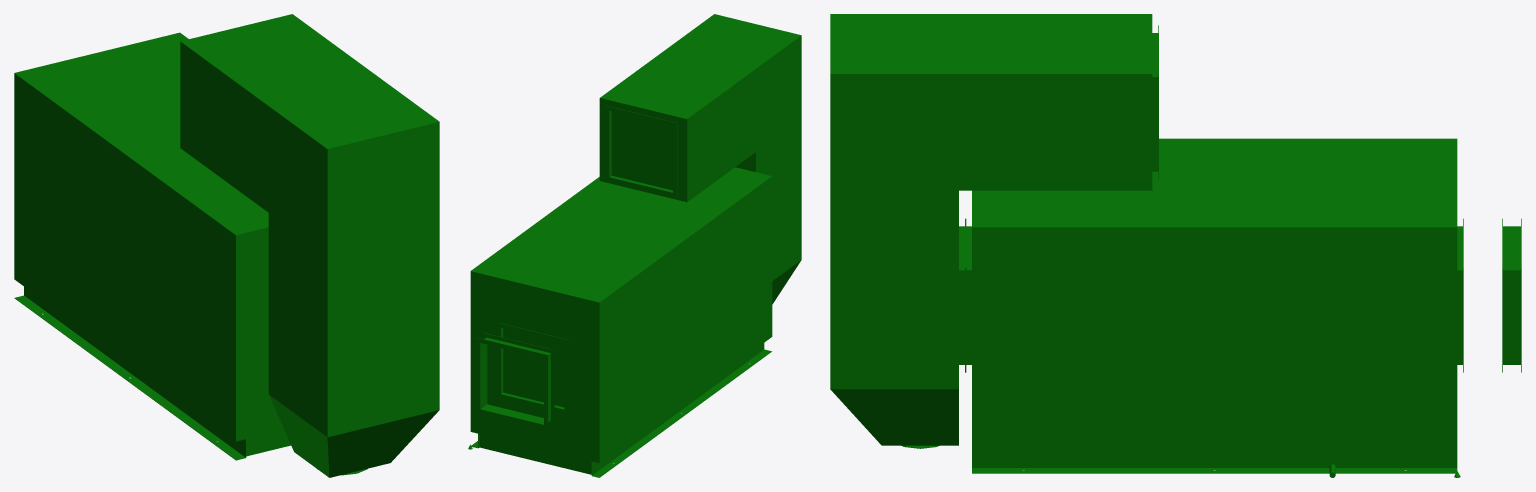
The model's file is Image-1710907701275-2280781674368_77-GA53.fbx.
3 views of the same model, side by side, from view 1: azimuth 30°, elevation 25°; view 2: azimuth 150°, elevation 25°; view 3: azimuth 270°, elevation 25° (orthographic). The views are drawn at different scales.
Visible parts, largest first — view 1: BOX 1 of SUBEQUIPMENT /77-GA53/UNIT, BOX 3 of SUBEQUIPMENT /77-GA53/SOUND-TRAP, BOX 4 of SUBEQUIPMENT /77-GA53/SOUND-TRAP, PYRAMID 1 of SUBEQUIPMENT /77-GA53/SOUND-TRAP, BOX 3 of SUBEQUIPMENT /77-GA53/FUND, BOX 4 of SUBEQUIPMENT /77-GA53/FUND; view 2: BOX 1 of SUBEQUIPMENT /77-GA53/UNIT, BOX 4 of SUBEQUIPMENT /77-GA53/SOUND-TRAP, BOX 3 of SUBEQUIPMENT /77-GA53/SOUND-TRAP, BOX 3 of SUBEQUIPMENT /77-GA53/FUND, BOX 2 of SUBEQUIPMENT /77-GA53/FUND, BOX 6 of SUBEQUIPMENT /77-GA53/SOUND-TRAP, BOX 5 of SUBEQUIPMENT /77-GA53/UNIT, BOX 4 of SUBEQUIPMENT /77-GA53/UNIT, BOX 7 of SUBEQUIPMENT /77-GA53/UNIT, BOX 6 of SUBEQUIPMENT /77-GA53/UNIT, PYRAMID 1 of SUBEQUIPMENT /77-GA53/SOUND-TRAP, BOX 5 of SUBEQUIPMENT /77-GA53/SOUND-TRAP; view 3: BOX 1 of SUBEQUIPMENT /77-GA53/UNIT, BOX 3 of SUBEQUIPMENT /77-GA53/SOUND-TRAP, BOX 4 of SUBEQUIPMENT /77-GA53/SOUND-TRAP, BOX 1 of SUBEQUIPMENT /77-GA53/FUND, PYRAMID 1 of SUBEQUIPMENT /77-GA53/SOUND-TRAP, BOX 7 of SUBEQUIPMENT /77-GA53/UNIT, BOX 5 of SUBEQUIPMENT /77-GA53/SOUND-TRAP, BOX 8 of SUBEQUIPMENT /77-GA53/UNIT, BOX 9 of SUBEQUIPMENT /77-GA53/UNIT, BOX 1 of SUBEQUIPMENT /77-GA53/SOUND-TRAP.
Part boxes in pixels (x1=…): BOX 1 of SUBEQUIPMENT /77-GA53/UNIT: x1=14, y1=32, x2=283, y2=441; BOX 3 of SUBEQUIPMENT /77-GA53/SOUND-TRAP: x1=268, y1=78, x2=439, y2=437; BOX 4 of SUBEQUIPMENT /77-GA53/SOUND-TRAP: x1=180, y1=14, x2=380, y2=212; PYRAMID 1 of SUBEQUIPMENT /77-GA53/SOUND-TRAP: x1=269, y1=395, x2=439, y2=477; BOX 3 of SUBEQUIPMENT /77-GA53/FUND: x1=14, y1=279, x2=246, y2=460; BOX 4 of SUBEQUIPMENT /77-GA53/FUND: x1=246, y1=429, x2=290, y2=456; BOX 1 of SUBEQUIPMENT /77-GA53/UNIT: x1=470, y1=167, x2=772, y2=462; BOX 4 of SUBEQUIPMENT /77-GA53/SOUND-TRAP: x1=599, y1=47, x2=755, y2=202; BOX 3 of SUBEQUIPMENT /77-GA53/SOUND-TRAP: x1=669, y1=14, x2=801, y2=280; BOX 3 of SUBEQUIPMENT /77-GA53/FUND: x1=591, y1=338, x2=771, y2=477; BOX 2 of SUBEQUIPMENT /77-GA53/FUND: x1=479, y1=434, x2=591, y2=474; BOX 6 of SUBEQUIPMENT /77-GA53/SOUND-TRAP: x1=605, y1=105, x2=677, y2=197; BOX 5 of SUBEQUIPMENT /77-GA53/UNIT: x1=476, y1=337, x2=547, y2=429; BOX 4 of SUBEQUIPMENT /77-GA53/UNIT: x1=497, y1=322, x2=568, y2=414; BOX 7 of SUBEQUIPMENT /77-GA53/UNIT: x1=480, y1=337, x2=550, y2=424; BOX 6 of SUBEQUIPMENT /77-GA53/UNIT: x1=483, y1=332, x2=554, y2=424; PYRAMID 1 of SUBEQUIPMENT /77-GA53/SOUND-TRAP: x1=772, y1=260, x2=801, y2=304; BOX 5 of SUBEQUIPMENT /77-GA53/SOUND-TRAP: x1=609, y1=111, x2=672, y2=192; BOX 1 of SUBEQUIPMENT /77-GA53/UNIT: x1=972, y1=138, x2=1457, y2=452; BOX 3 of SUBEQUIPMENT /77-GA53/SOUND-TRAP: x1=830, y1=14, x2=958, y2=389; BOX 4 of SUBEQUIPMENT /77-GA53/SOUND-TRAP: x1=959, y1=14, x2=1152, y2=190; BOX 1 of SUBEQUIPMENT /77-GA53/FUND: x1=972, y1=452, x2=1457, y2=473; PYRAMID 1 of SUBEQUIPMENT /77-GA53/SOUND-TRAP: x1=830, y1=389, x2=958, y2=445; BOX 7 of SUBEQUIPMENT /77-GA53/UNIT: x1=1503, y1=226, x2=1520, y2=364; BOX 5 of SUBEQUIPMENT /77-GA53/SOUND-TRAP: x1=1152, y1=33, x2=1158, y2=171; BOX 8 of SUBEQUIPMENT /77-GA53/UNIT: x1=966, y1=226, x2=971, y2=364; BOX 9 of SUBEQUIPMENT /77-GA53/UNIT: x1=1457, y1=226, x2=1462, y2=364; BOX 1 of SUBEQUIPMENT /77-GA53/SOUND-TRAP: x1=959, y1=226, x2=964, y2=364.
Size of the model in its own units: 1.85 by 5.36 by 3.35.
